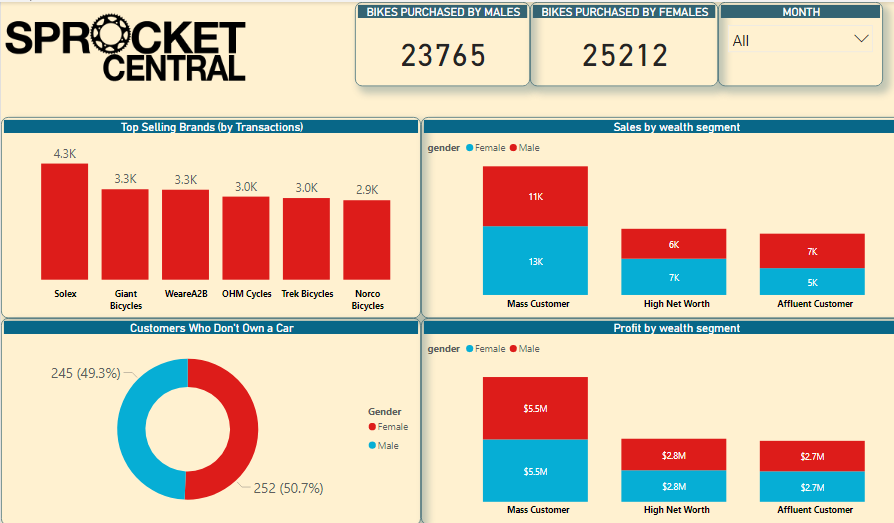

What the dashboard file says about the page in this screenshot:
{"tool":"powerbi","page":{"name":"Page 1","canvas":[1280,720],"ordinal":0},"visuals":[{"type":"image","box":[0,0,351,147.3],"z":0},{"type":"card","title":"BIKES PURCHASED BY FEMALES","fields":{"Values":["Sum(NewCustomerList.past_3_years_bike_related_purchases)"]},"box":[728.1,0,258.8,115.6],"z":1},{"type":"card","title":"BIKES PURCHASED BY MALES","fields":{"Values":["Sum(NewCustomerList.past_3_years_bike_related_purchases)"]},"box":[487.2,0,240.9,115.6],"z":2},{"type":"slicer","title":"MONTH","fields":{"Values":["Transactions.transaction_date.Variation.Date Hierarchy.Month"]},"box":[986.8,0,227.1,115.6],"z":3},{"type":"columnChart","title":"Top Selling Brands (by Transactions)","fields":{"Category":["Transactions.brand"],"Y":["CountNonNull(Transactions.transaction_id)"]},"box":[0,158.3,578.1,276.6],"z":4},{"type":"donutChart","title":"Customers Who Don''t Own a Car","fields":{"Y":["CountNonNull(NewCustomerList.owns_car)"],"Category":["NewCustomerList.gender"]},"box":[0,434.9,578.1,286.3],"z":6},{"type":"columnChart","title":"Sales by wealth segment","fields":{"Y":["Sum(NewCustomerList.past_3_years_bike_related_purchases)"],"Category":["NewCustomerList.wealth_segment"],"Series":["NewCustomerList.gender"]},"box":[578.1,158.3,701.9,276.6],"z":7},{"type":"columnChart","title":"Profit by wealth segment","fields":{"Category":["NewCustomerList.wealth_segment"],"Series":["NewCustomerList.gender"],"Y":["Sum(Transactions.Profit)"]},"box":[578.1,434.9,701.9,284.9],"z":8}]}

Visuals, with their boxes on the page's 1280x720 design canvas (x1, y1, x2, y2). These are canvas units, not pixel positions in the 894x523 screenshot, which may show the page scaled, cropped or inside an application window:
image: (x1=0, y1=0, x2=351, y2=147)
"BIKES PURCHASED BY FEMALES" card: (x1=728, y1=0, x2=987, y2=116)
"BIKES PURCHASED BY MALES" card: (x1=487, y1=0, x2=728, y2=116)
"MONTH" slicer: (x1=987, y1=0, x2=1214, y2=116)
"Top Selling Brands (by Transactions)" columnChart: (x1=0, y1=158, x2=578, y2=435)
"Customers Who Don''t Own a Car" donutChart: (x1=0, y1=435, x2=578, y2=721)
"Sales by wealth segment" columnChart: (x1=578, y1=158, x2=1280, y2=435)
"Profit by wealth segment" columnChart: (x1=578, y1=435, x2=1280, y2=720)
